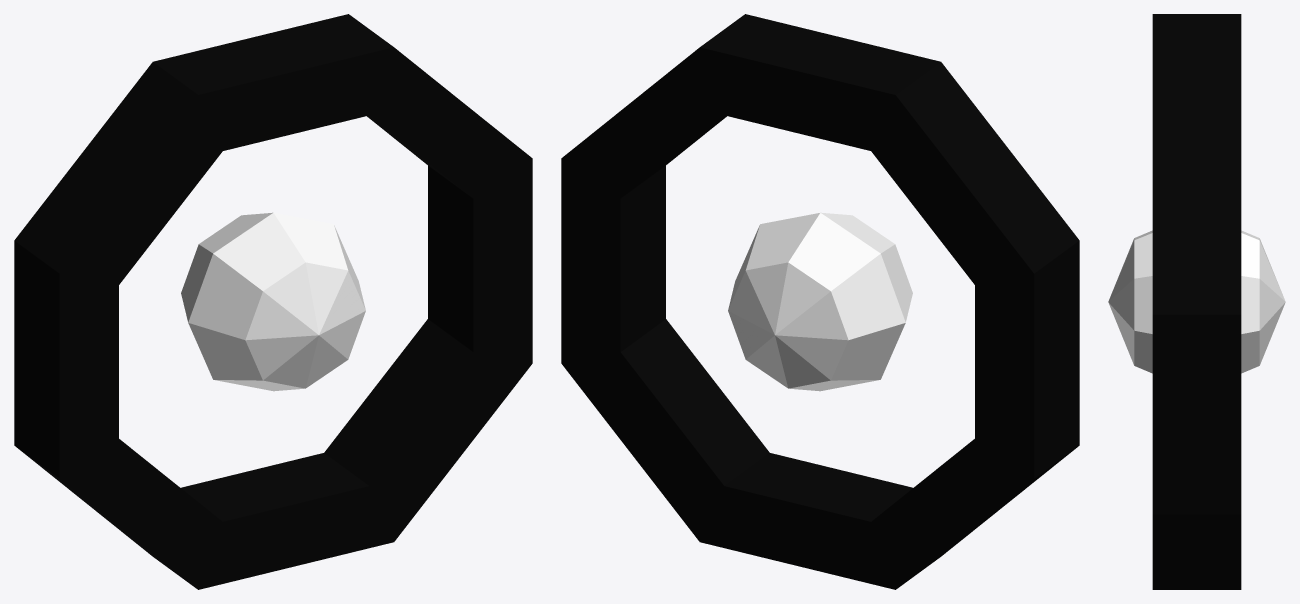
The model's file is LaserEmitter.fbx.
3 views of the same model, side by side, from view 1: azimuth 30°, elevation 25°; view 2: azimuth 150°, elevation 25°; view 3: azimuth 270°, elevation 25° (orthographic). The views are drawn at different scales.
Visible parts, largest first — view 1: tube, sphere; view 2: tube, sphere; view 3: tube, sphere.
Part boxes in pixels (left/top/right/bottom): tube: left=14, top=14, right=532, bottom=589; sphere: left=181, top=212, right=365, bottom=391; tube: left=561, top=14, right=1079, bottom=589; sphere: left=728, top=212, right=912, bottom=391; tube: left=1152, top=14, right=1241, bottom=589; sphere: left=1108, top=230, right=1285, bottom=373.
Size of the model in its own units: 37.5 by 37.5 by 12.5.
1 material, 1 textured.
